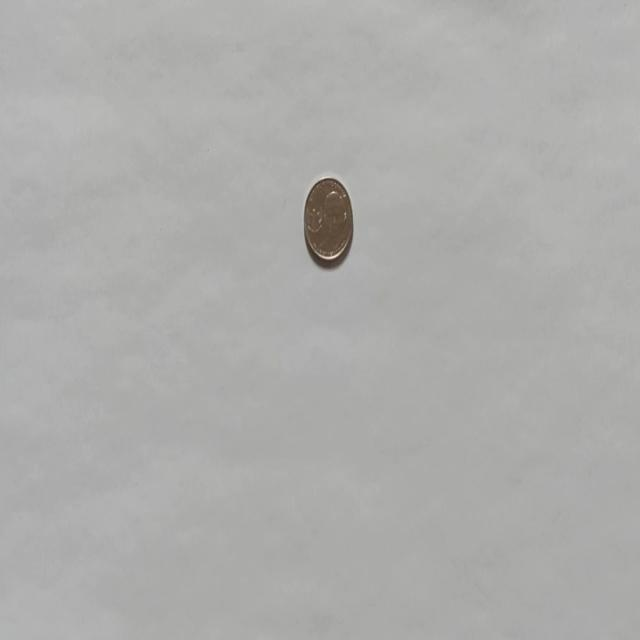seribu rupiah koin: (302, 174, 353, 264)
